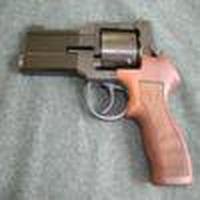gun: (12, 17, 200, 192)
